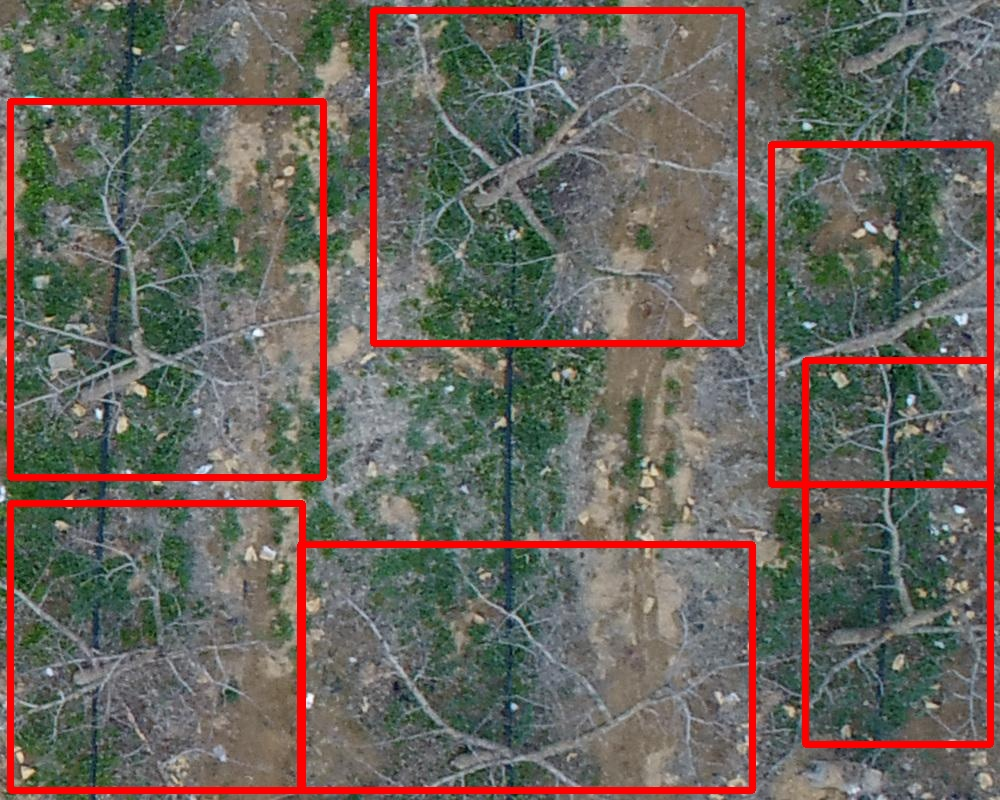apple: (373, 10, 741, 343), (10, 101, 323, 477), (300, 544, 752, 790), (10, 503, 302, 790), (771, 144, 990, 484), (805, 360, 990, 744)
